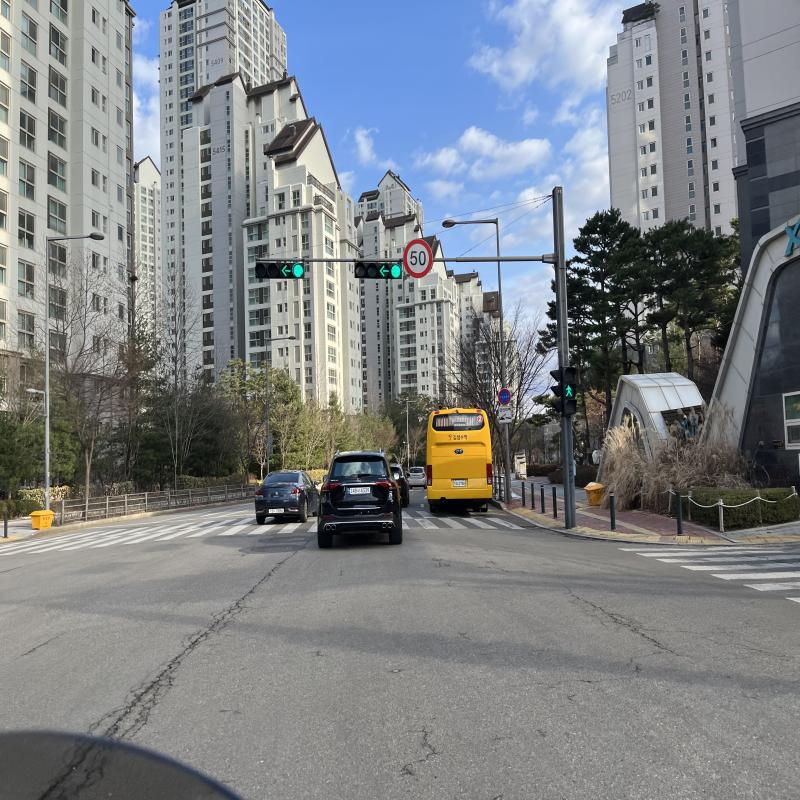green: (292, 264, 304, 278), (390, 264, 402, 278)
left: (280, 264, 292, 278), (379, 264, 390, 278)
